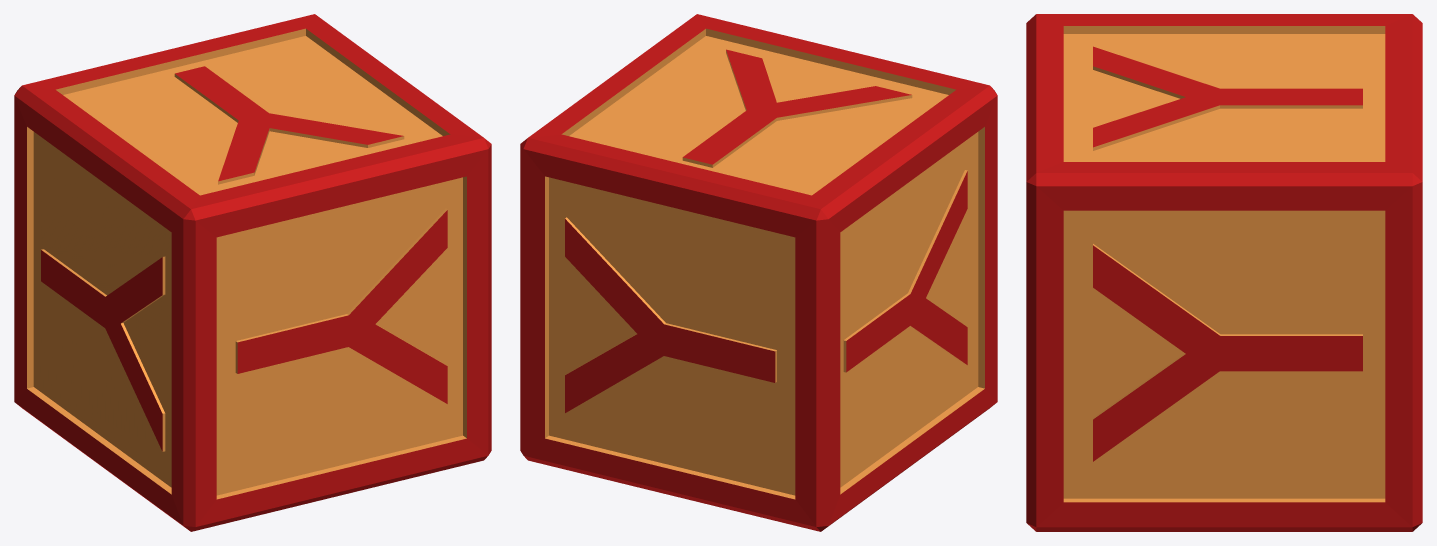
Rendered from box_letter_y.obj.
3 renders of one model, left to right at view 1: azimuth 30°, elevation 25°; view 2: azimuth 150°, elevation 25°; view 3: azimuth 270°, elevation 25°, orthographic. The views are drawn at different scales.
Visible parts, largest first — view 1: Box; view 2: Box; view 3: Box.
Part boxes in pixels (x1,y1,x2,y2): Box: (14, 14, 491, 531); Box: (520, 14, 997, 531); Box: (1026, 14, 1422, 531).
Size of the model in its own units: 1 by 1 by 1.
